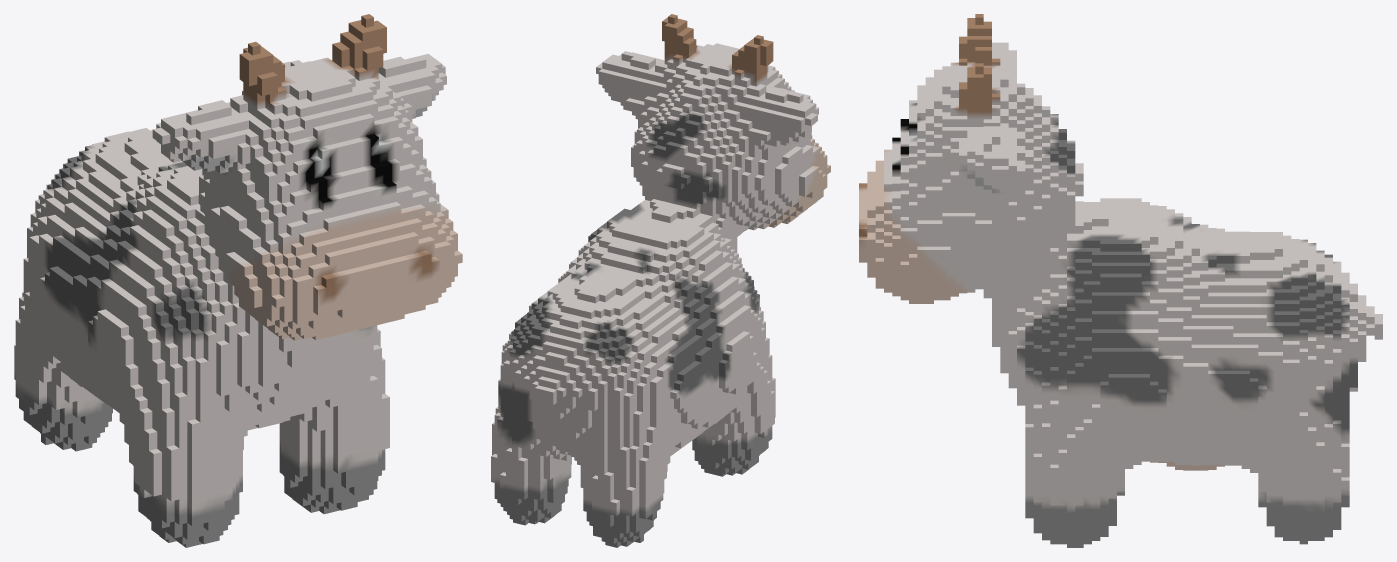
File: voxel_spot_64x.glb
3 views of the same model, side by side, from view 1: azimuth 30°, elevation 25°; view 2: azimuth 150°, elevation 25°; view 3: azimuth 270°, elevation 25° (orthographic). The views are drawn at different scales.
Visible parts, largest first — view 1: TargetSpot; view 2: TargetSpot; view 3: TargetSpot.
Part boxes in pixels (x1,y1,x2,y2): TargetSpot: (14, 14, 462, 547); TargetSpot: (491, 14, 830, 547); TargetSpot: (859, 14, 1382, 547).
Size of the model in its own units: 0.5524 by 0.9943 by 0.9943.
